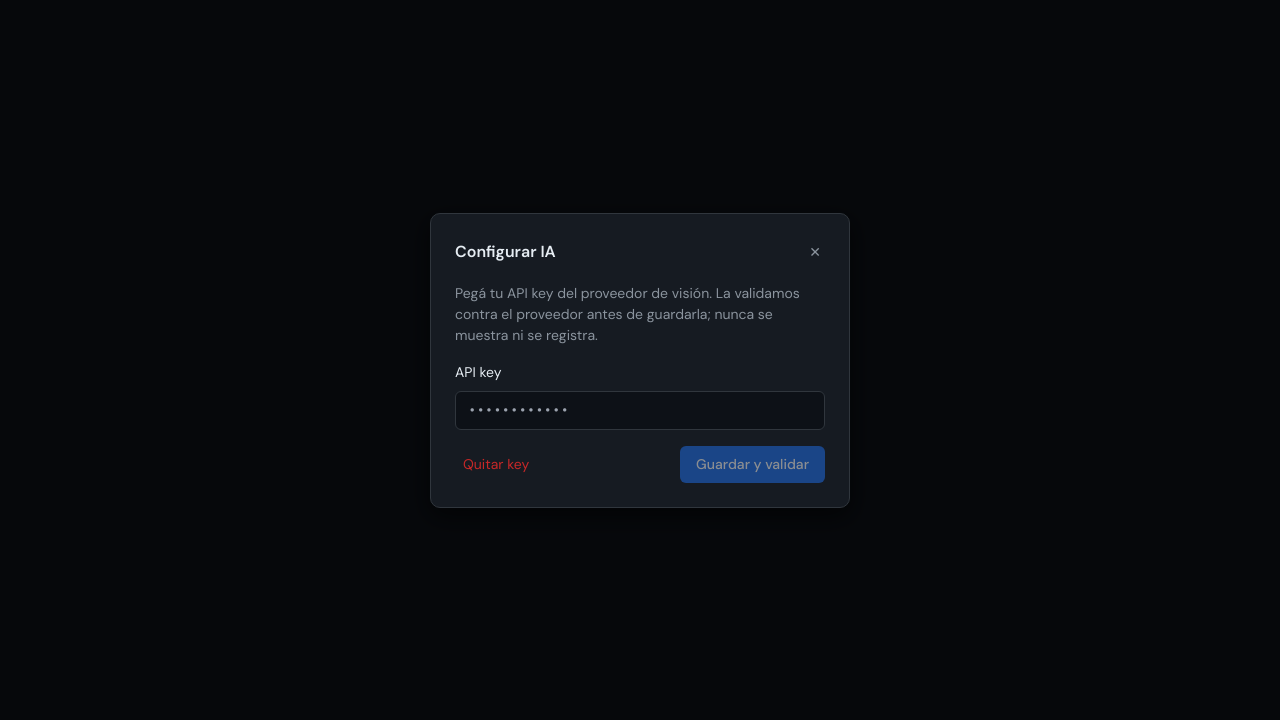
Test: VisionKeySettingsModal (VKS-004) › invalid key (rejected) → error message shown, key NOT cleared (VKS-004-S02)
In the password field labelled "API key": (640, 410) [455,390,825,430], type "sk-bad"
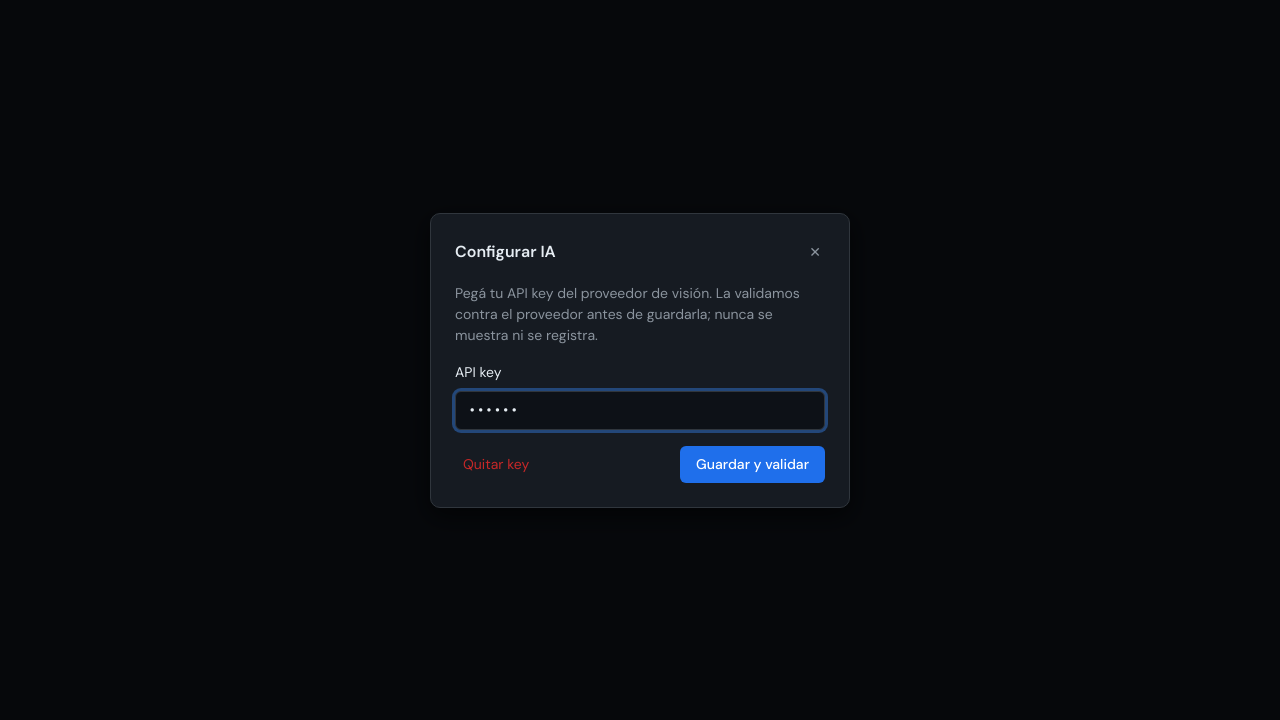
Click the button "Guardar y validar": (753, 464) [680,446,825,482]
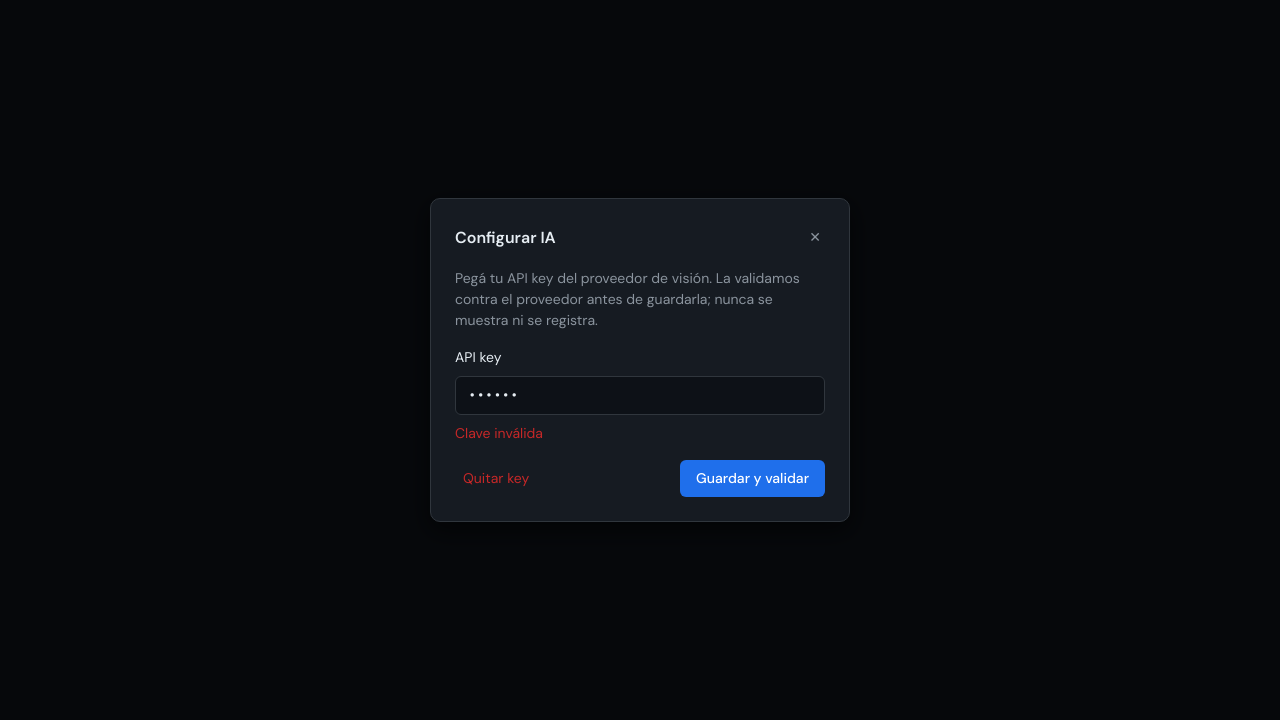
Expected: the message "Clave inválida" is shown, [455,424,543,442]
